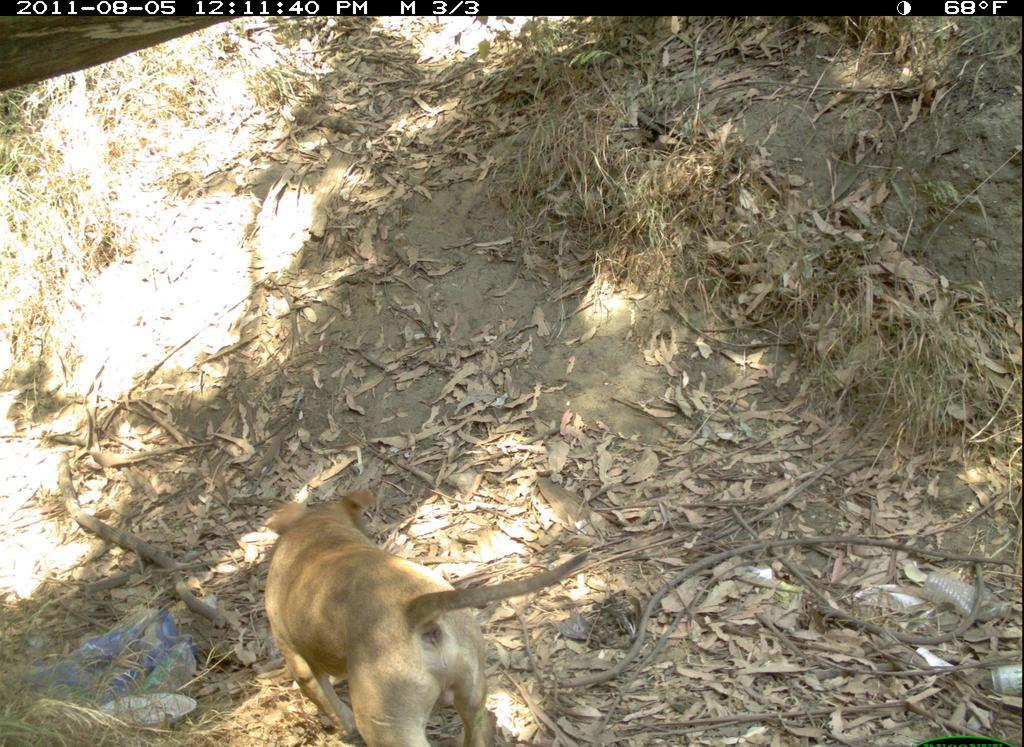dog: (173, 457, 565, 747)
